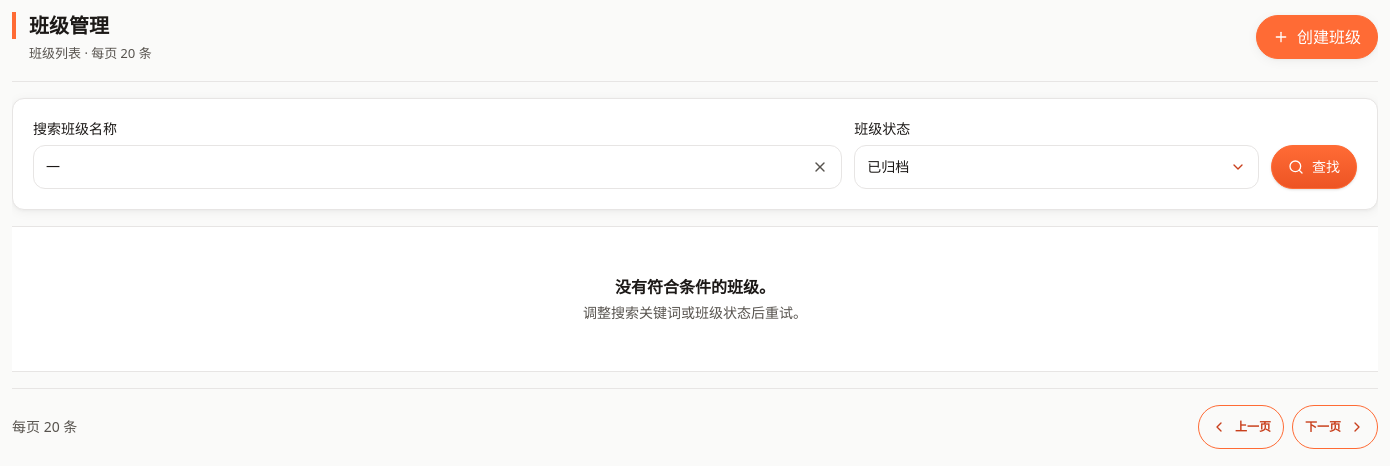
Test: clearing the native class search resets the status filter immediately
This screenshot has width=1390, height=466.
Expected: the dropdown named "班级状态" reads "已归档", [854, 145, 1259, 189]
Click the button named "清空输入内容" at x=820, y=167, box [802, 149, 838, 185]
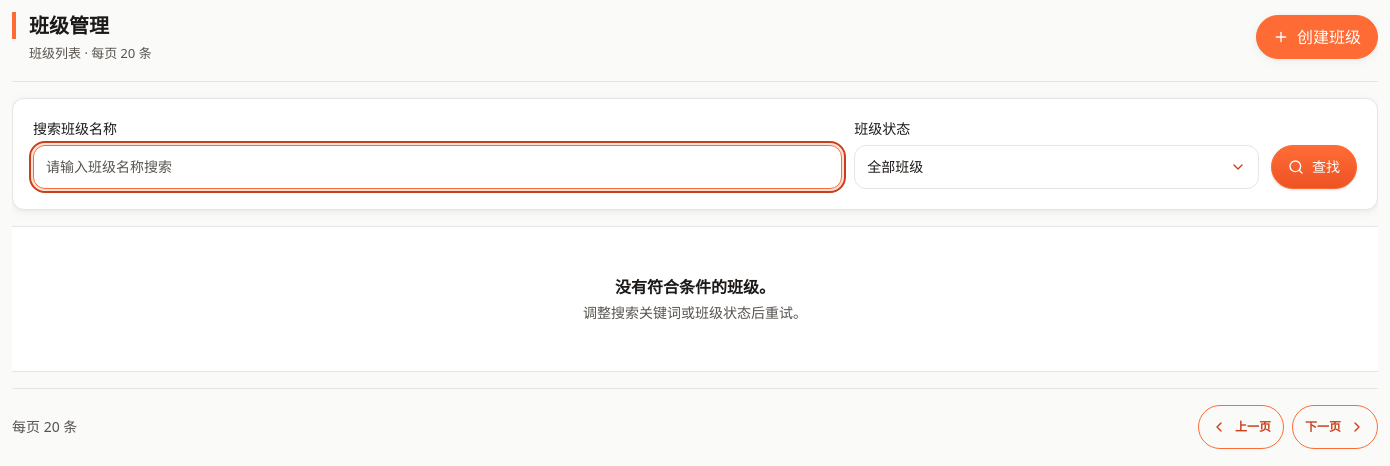
Result: the dropdown named "班级状态" reads "全部班级" at [854, 145, 1259, 189]
